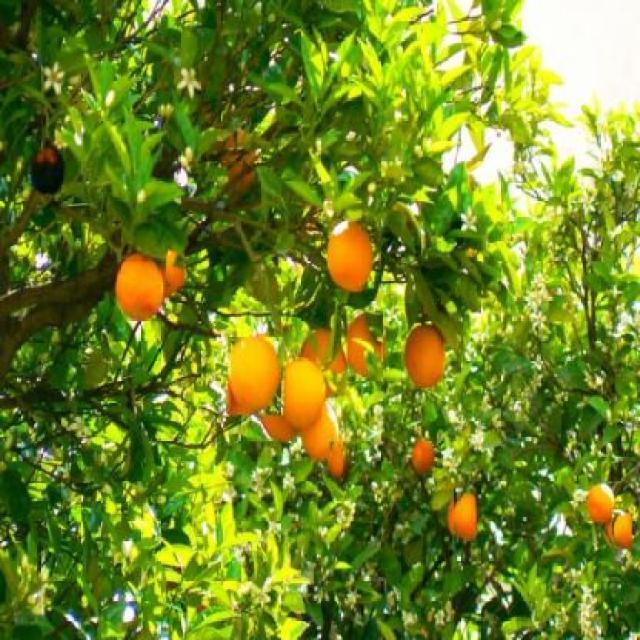Orange: (228, 337, 284, 415), (398, 316, 450, 396), (114, 250, 174, 318), (326, 219, 379, 290), (282, 344, 322, 428), (347, 310, 382, 382), (302, 328, 340, 370), (306, 398, 339, 446), (453, 488, 476, 544), (590, 480, 616, 526), (260, 408, 298, 436), (412, 438, 437, 469), (612, 512, 632, 550), (167, 244, 184, 286), (330, 439, 342, 476)
